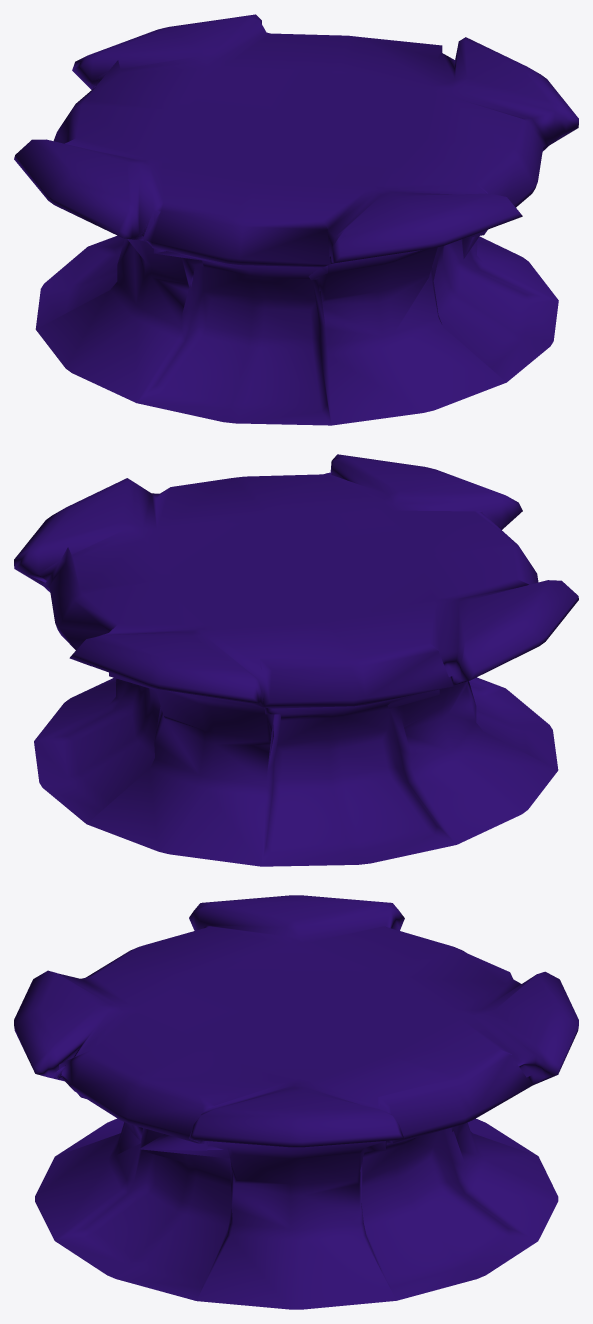
The model's file is alien chair.fbx.
3 renders of one model, top to bottom at view 1: azimuth 30°, elevation 25°; view 2: azimuth 150°, elevation 25°; view 3: azimuth 270°, elevation 25°, orthographic.
Parts seen in each view (by area): view 1: Cylinder; view 2: Cylinder; view 3: Cylinder.
Boxes of the visible parts, bbox=[...] form: Cylinder: bbox=[14, 14, 578, 425]; Cylinder: bbox=[14, 454, 578, 866]; Cylinder: bbox=[14, 895, 578, 1309].
Size of the model in its own units: 6.3 by 2.4 by 6.3.
